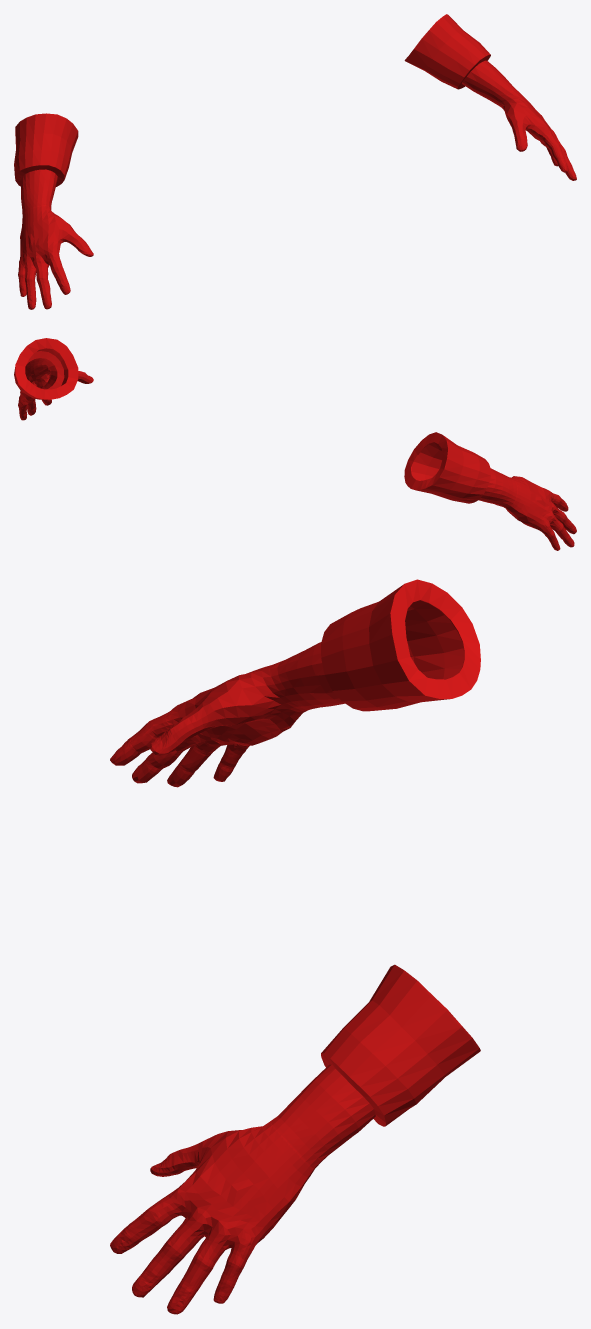
The model's file is mhw_culturalibre_hero-heroine_gloves_2.glb.
The picture shows the model from 3 angles, top to bottom: view 1: azimuth 30°, elevation 25°; view 2: azimuth 150°, elevation 25°; view 3: azimuth 270°, elevation 25°; orthographic projection. The views are drawn at different scales.
Visible parts, largest first — view 1: mhw_culturalibre_hero-heroine_gloves_2; view 2: mhw_culturalibre_hero-heroine_gloves_2; view 3: mhw_culturalibre_hero-heroine_gloves_2.
Part boxes in pixels (x1,y1,x2,y2): mhw_culturalibre_hero-heroine_gloves_2: (14, 14, 576, 309); mhw_culturalibre_hero-heroine_gloves_2: (14, 338, 576, 550); mhw_culturalibre_hero-heroine_gloves_2: (110, 579, 480, 1314).
Bounding box in the file's own units: 1.22 × 0.2909 × 0.3583.
1 material, 1 textured.
